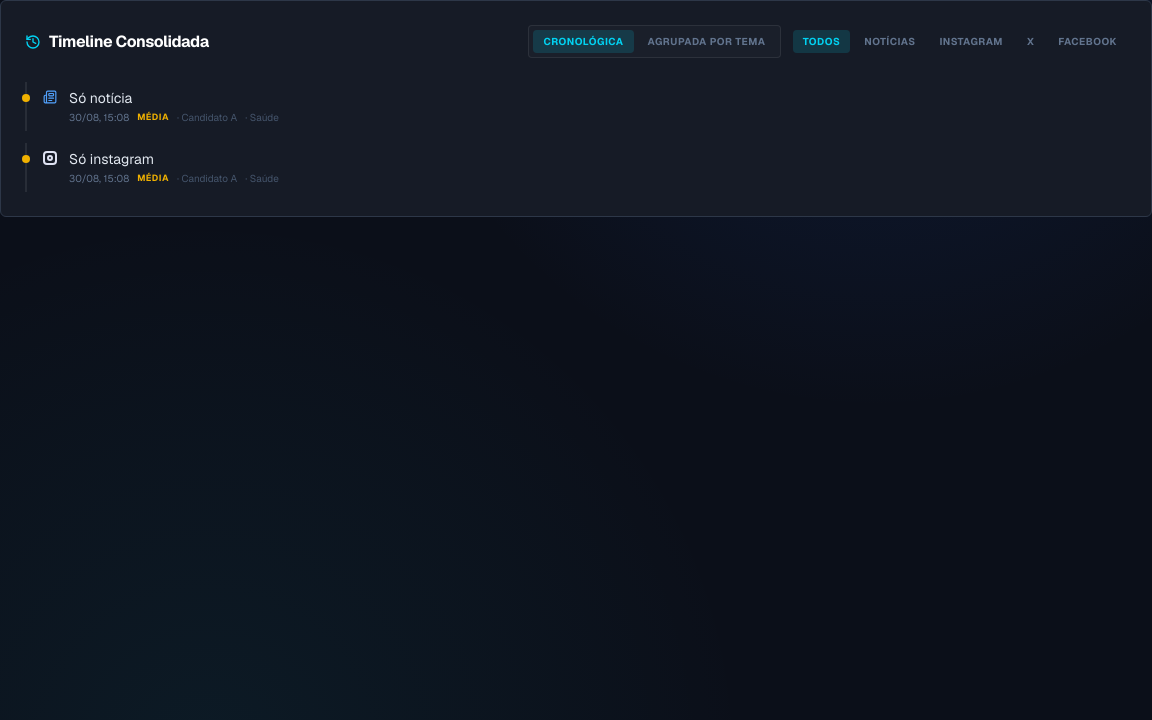
Test case: OverviewTimeline › filtra por canal
Click the button "Notícias" at (890, 42), box [854,30,926,53]
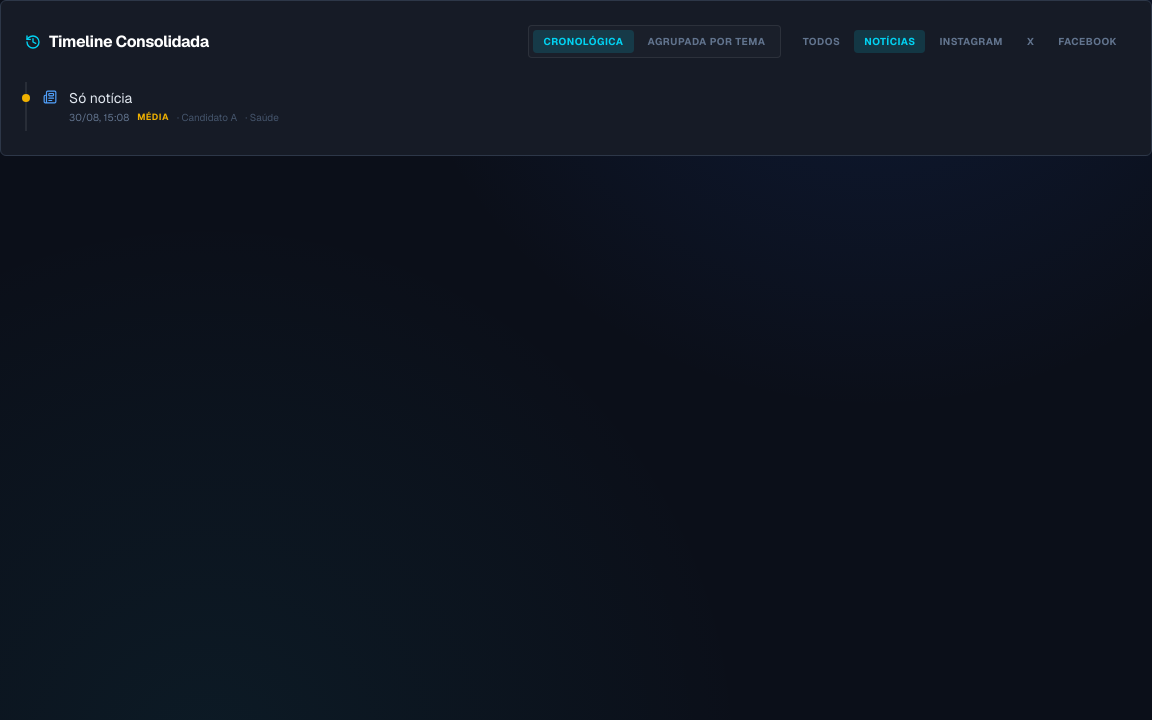
Expected: the text "Só notícia" is shown, [69,89,132,107]
Result: the text "Só instagram" is gone
